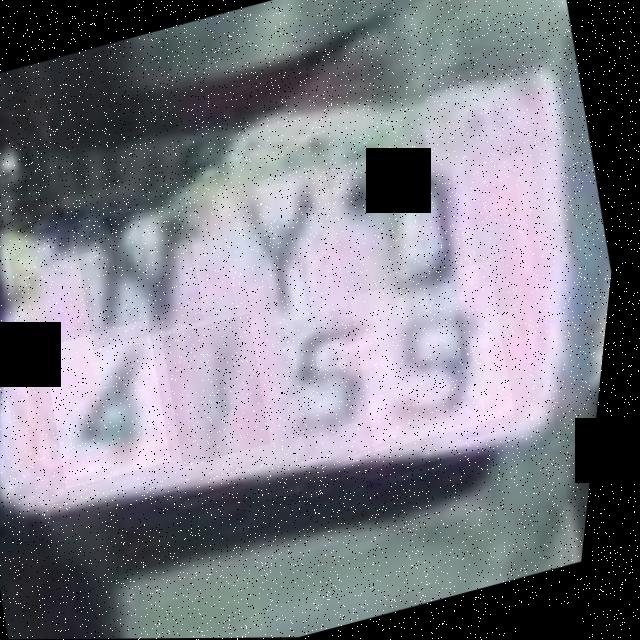1: (158, 313, 291, 467)
4: (39, 319, 192, 489)
5: (250, 290, 420, 458)
9: (343, 260, 536, 452)
N: (68, 196, 221, 350)
Y: (209, 163, 365, 335)
